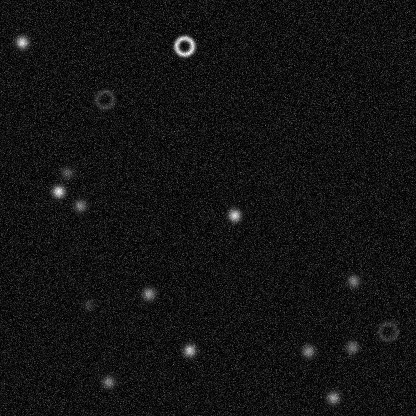Ring: (92, 87, 116, 111), (172, 33, 196, 57), (375, 319, 399, 343)
Spot: (300, 343, 316, 359), (80, 296, 96, 312), (100, 373, 116, 389), (50, 183, 66, 199), (226, 207, 242, 223), (345, 272, 361, 288), (324, 389, 340, 405), (344, 339, 360, 355), (181, 342, 197, 358), (59, 164, 75, 180), (13, 34, 29, 50), (71, 197, 87, 213), (140, 285, 156, 301)
